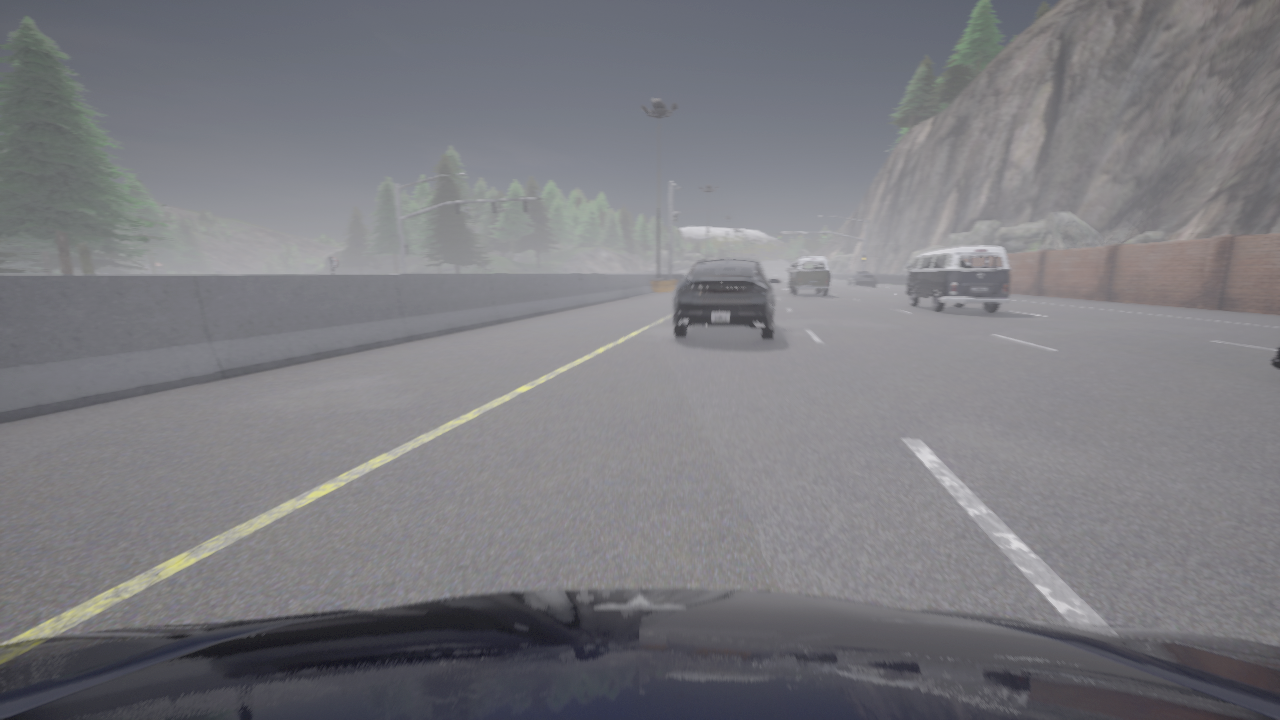cyclist: (0, 588, 1279, 719), (672, 257, 780, 339), (905, 245, 1009, 312), (787, 257, 829, 295), (847, 272, 876, 286), (1271, 341, 1279, 368)
